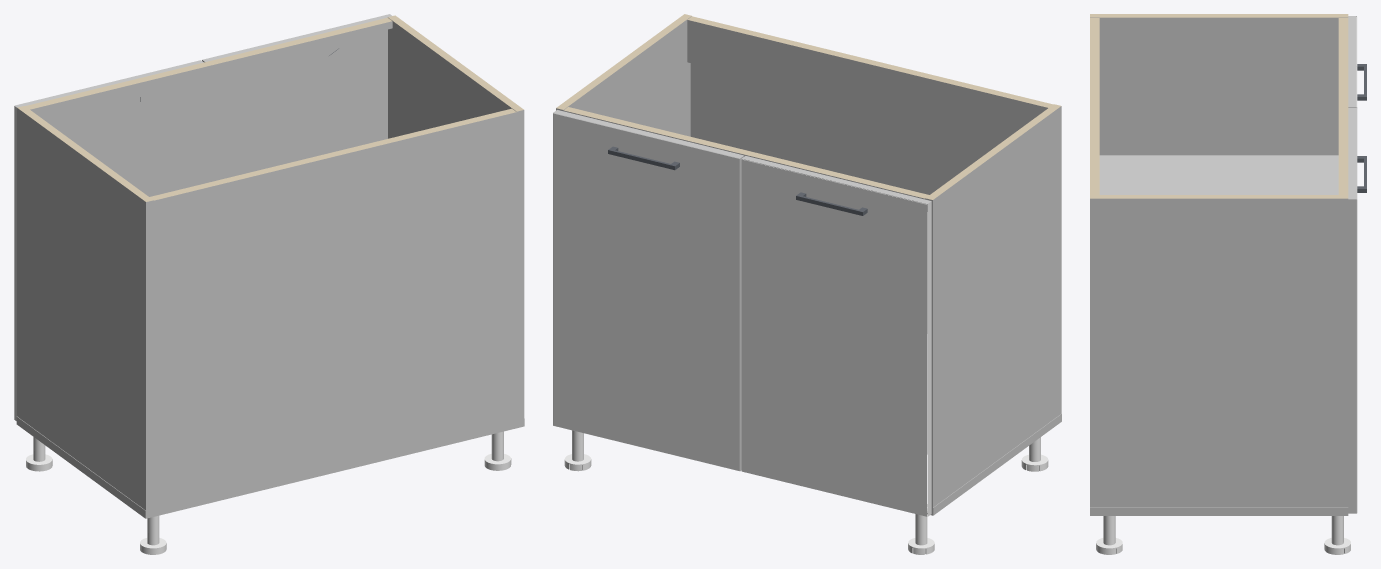
3 views of the same model, side by side, from view 1: azimuth 30°, elevation 25°; view 2: azimuth 150°, elevation 25°; view 3: azimuth 270°, elevation 25° (orthographic).
Parts seen in each view (by area): view 1: Model; view 2: Model; view 3: Model.
Part boxes in pixels (x1,y1,x2,y2): Model: [14, 14, 524, 554]; Model: [553, 14, 1061, 554]; Model: [1090, 14, 1366, 554].
Size of the model in its own units: 902 by 815 by 570.
